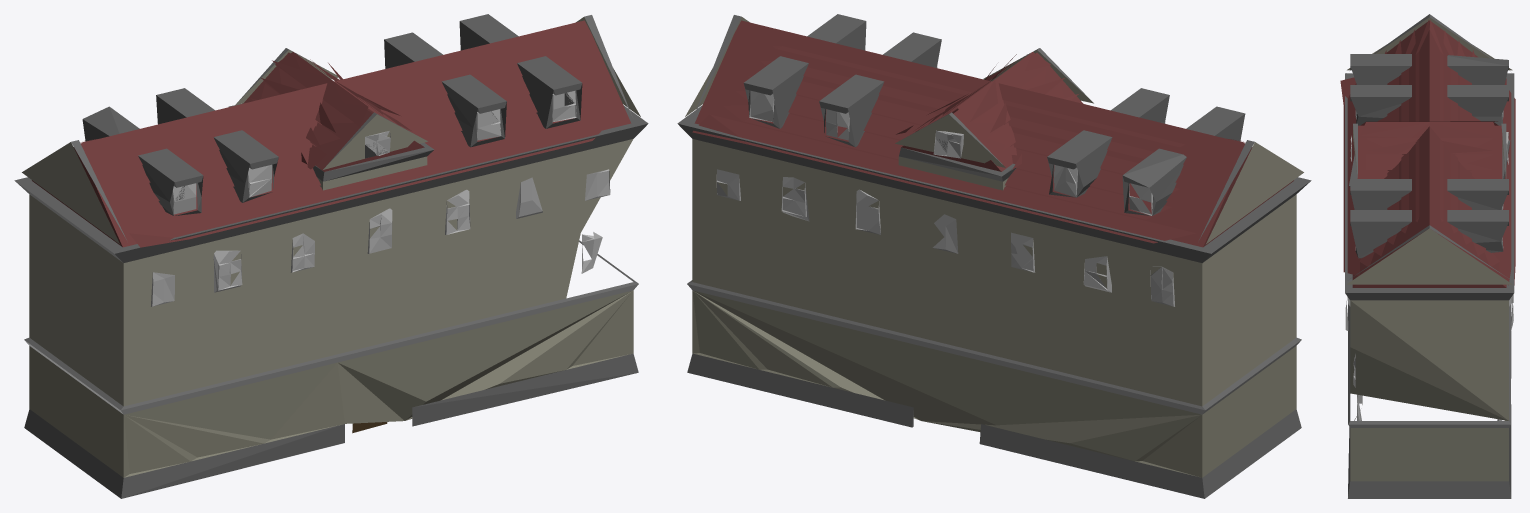
The model's file is Building1_Large_lod.glb.
3 renders of one model, left to right at view 1: azimuth 30°, elevation 25°; view 2: azimuth 150°, elevation 25°; view 3: azimuth 270°, elevation 25°, orthographic. The views are drawn at different scales.
Visible parts, largest first — view 1: Building1_Large; view 2: Building1_Large; view 3: Building1_Large.
Boxes of the visible parts, <box> form: Building1_Large: <box>14,14,648,498</box>; Building1_Large: <box>677,14,1311,498</box>; Building1_Large: <box>1340,14,1515,498</box>.
Bounding box in the file's own units: 7.99 × 4.61 × 2.69.
